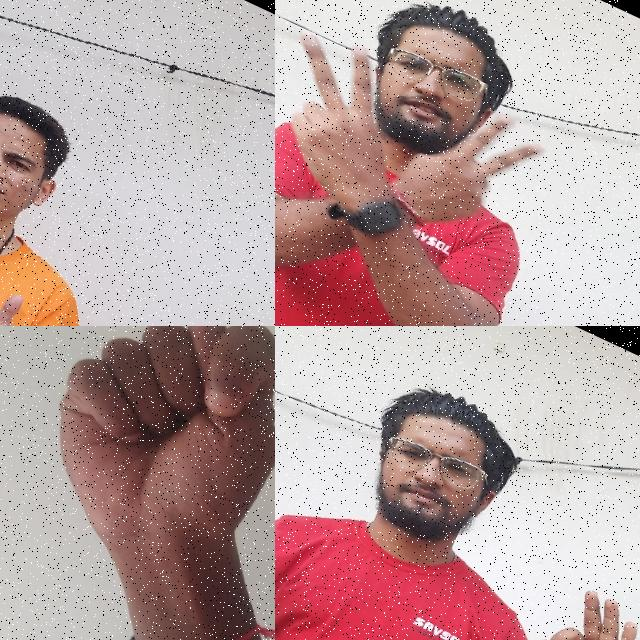Dulya: (0, 326, 275, 620)
Okay: (501, 565, 640, 640)
Reversed Victory: (382, 74, 560, 268), (275, 9, 436, 223)
Thumbs Up: (0, 275, 55, 326)
